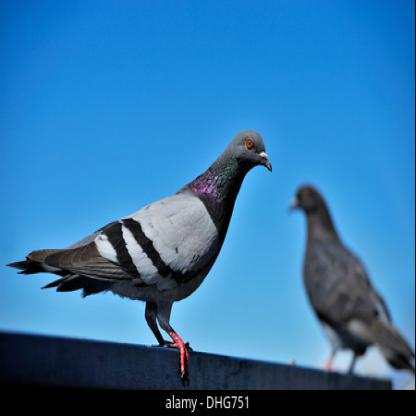Flying Rat: (35, 130, 272, 384), (285, 173, 410, 380)
